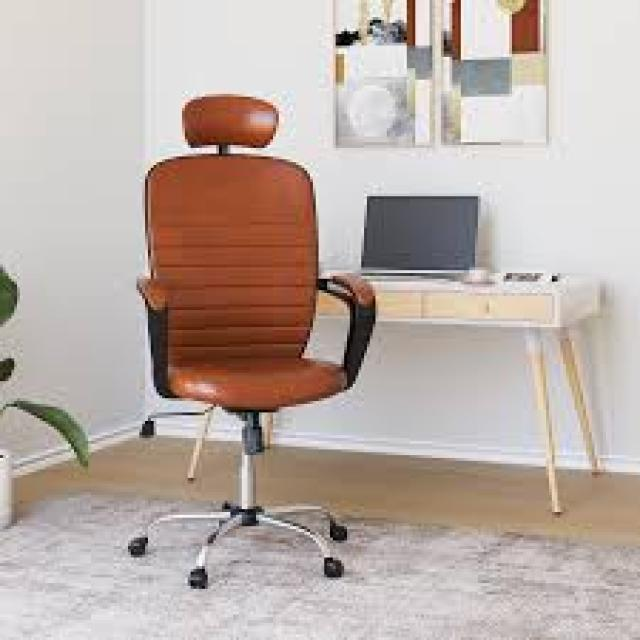chair: (71, 75, 402, 600)
